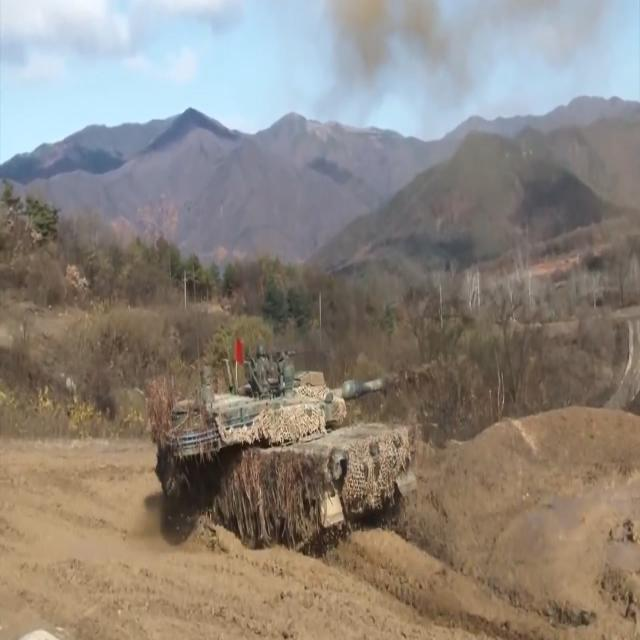korea tank: (147, 340, 441, 554)
